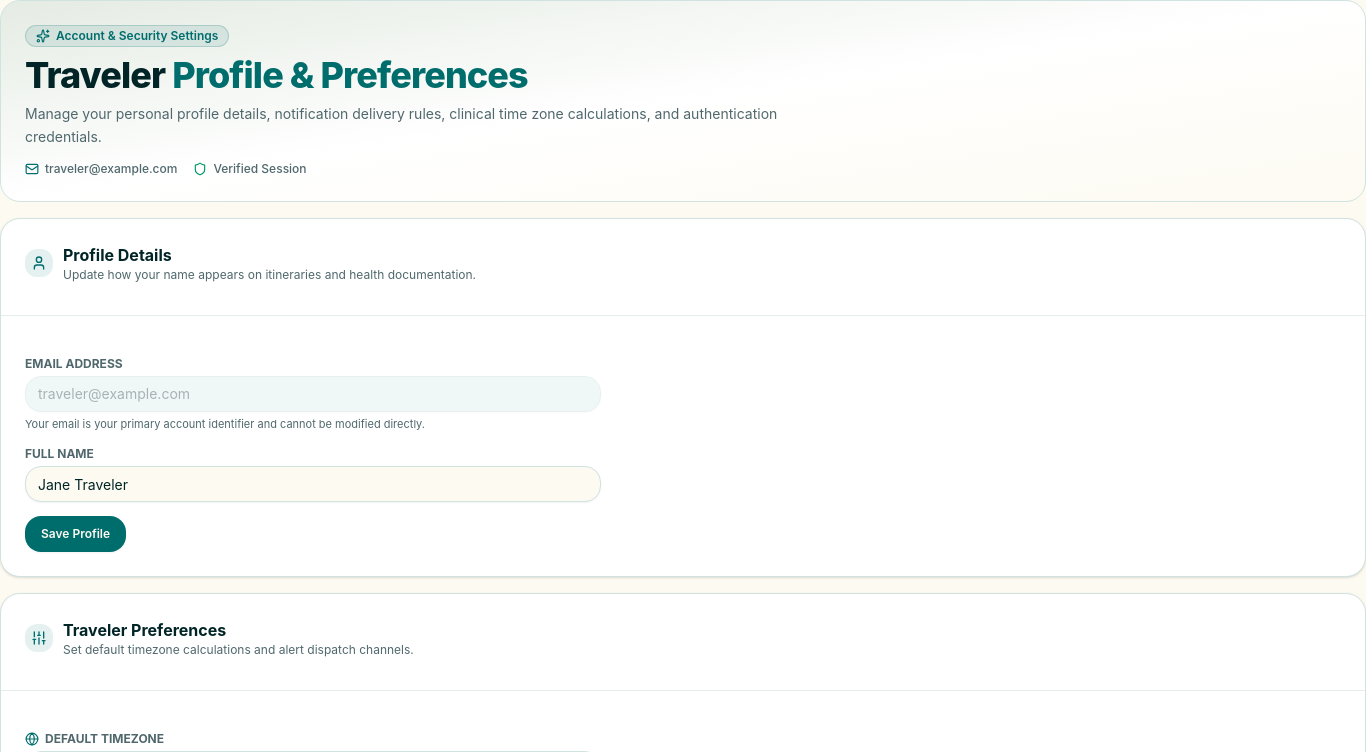
Test: AccountPage › submits profile update and refreshes user context
The width and height of the screenshot is (1366, 752).
Replace the text in the field labelled "Full Name" with "Jane Explorer" at (313, 484), box [25,466,601,502]
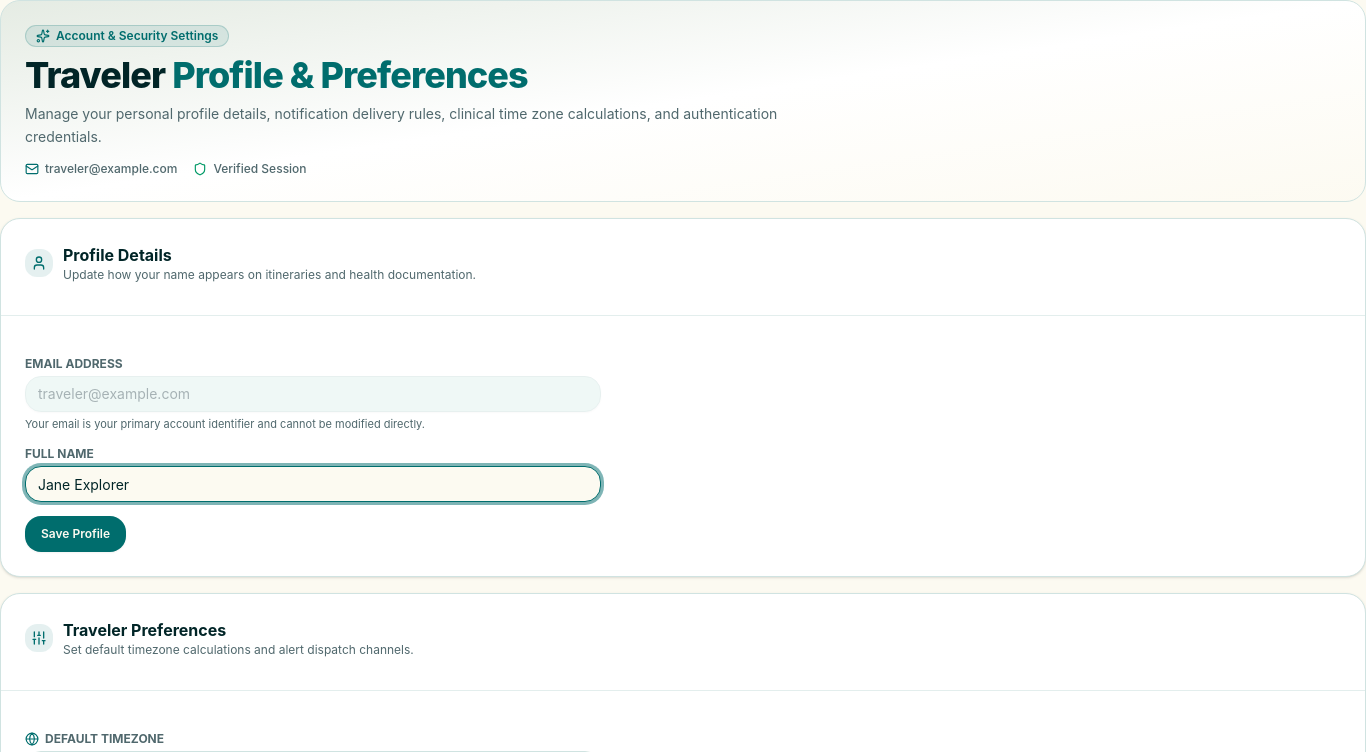
Click the button "Save Profile" at (76, 534), box [25,516,126,552]
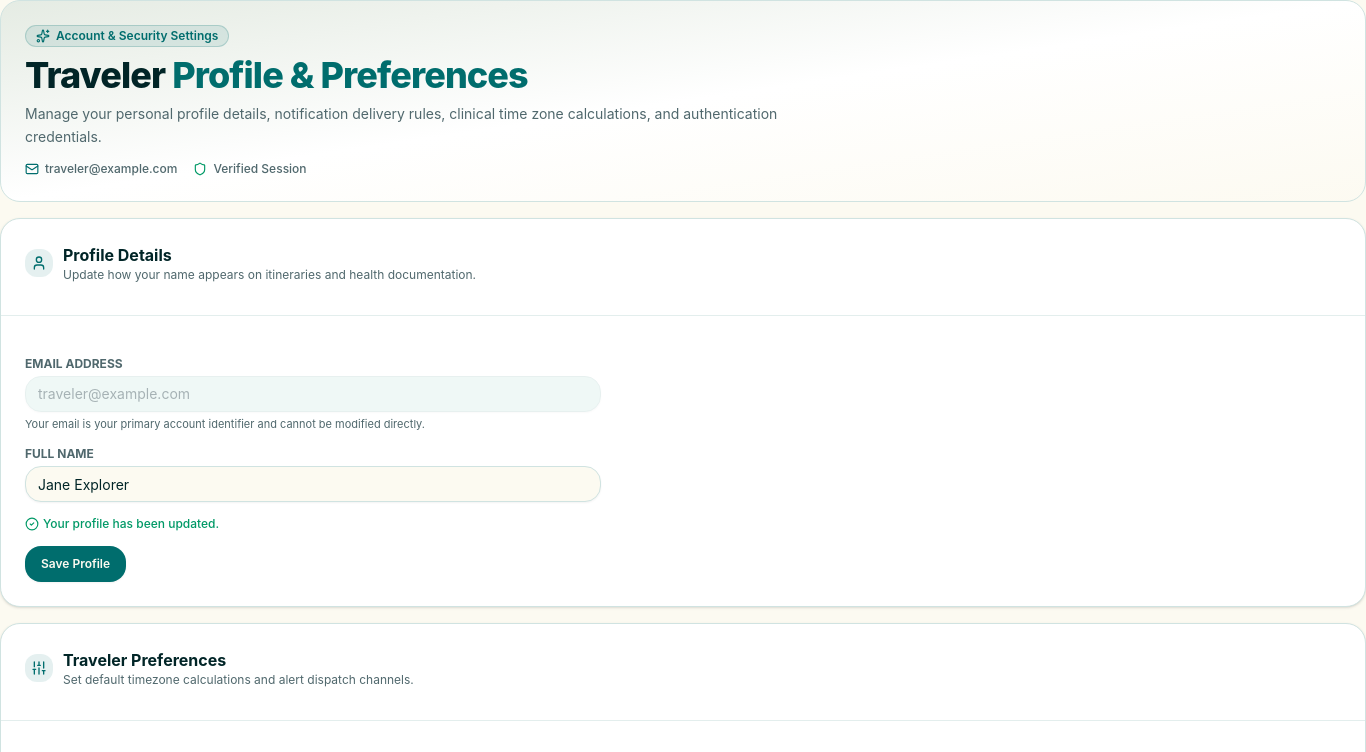
Check: the text "Your profile has been updated." is shown, box [25,516,219,531]
